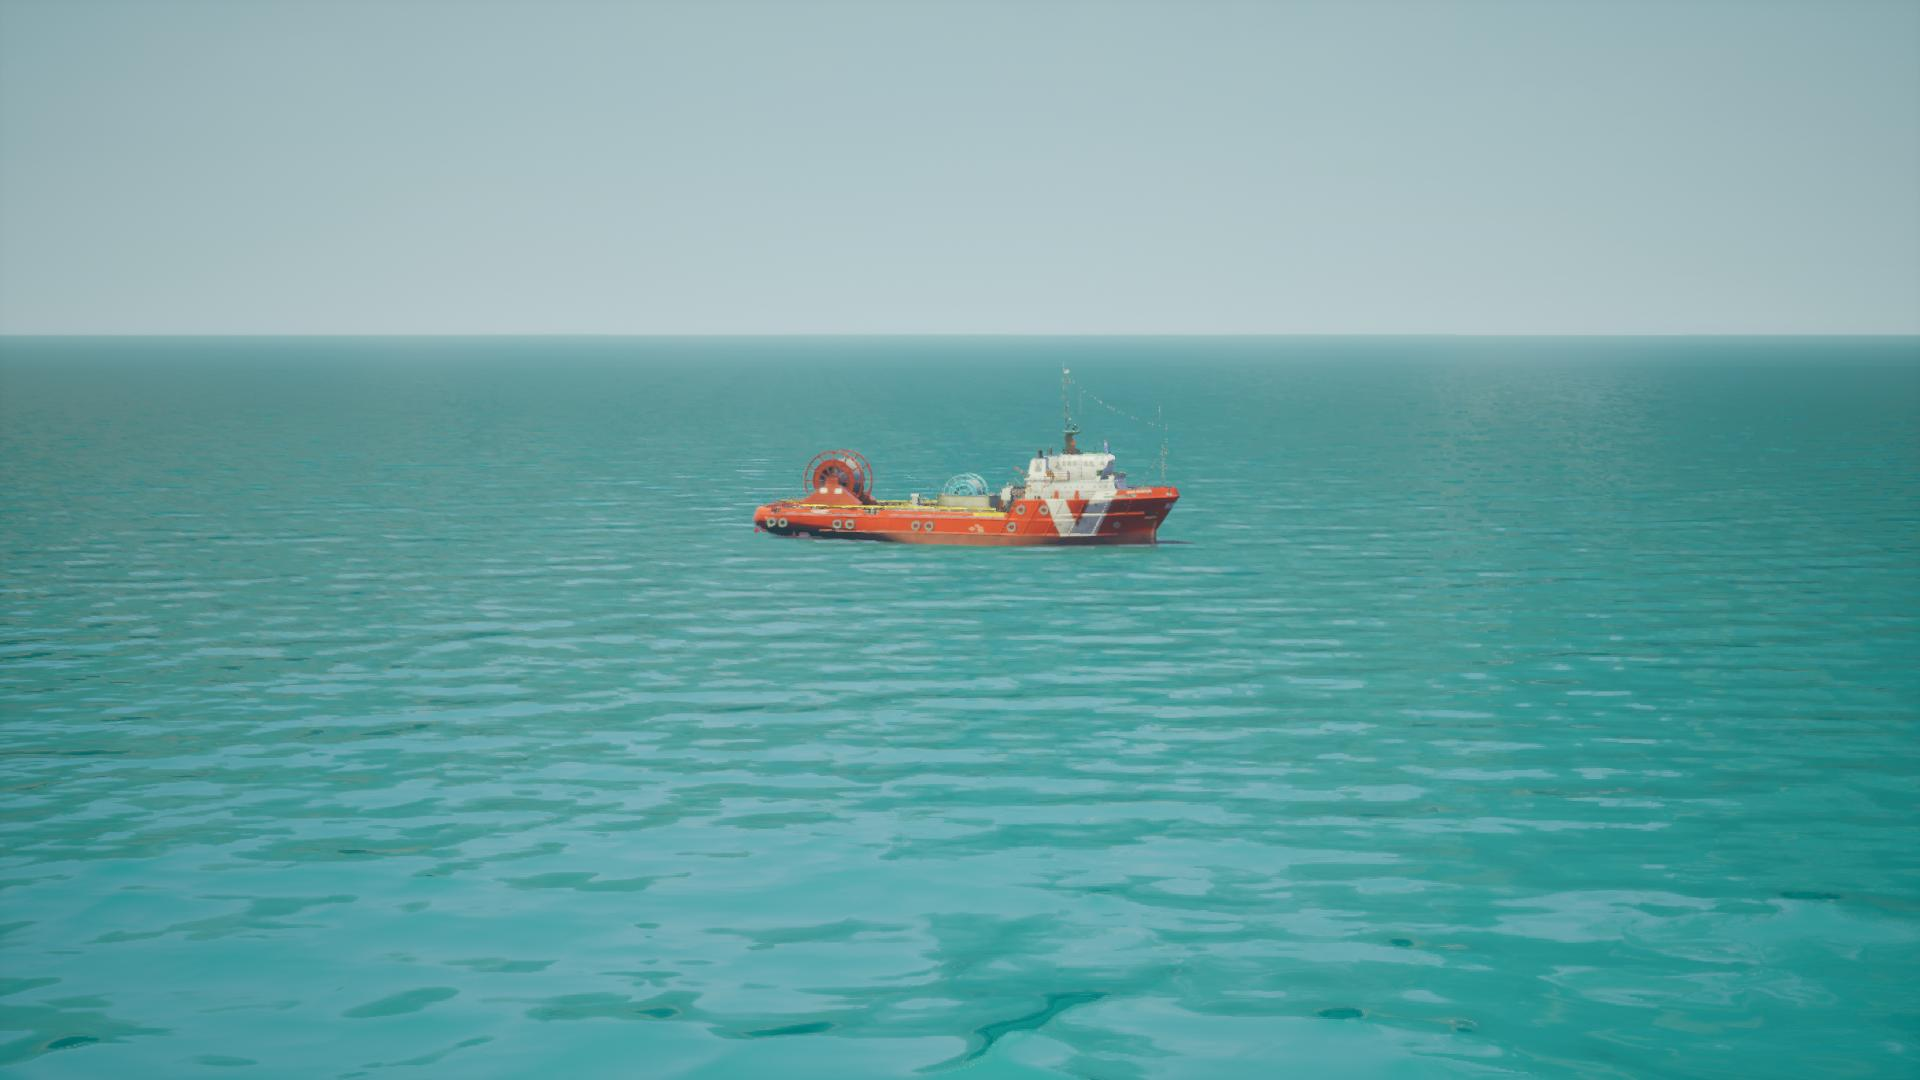Tug Boat: (757, 369, 1187, 549)
